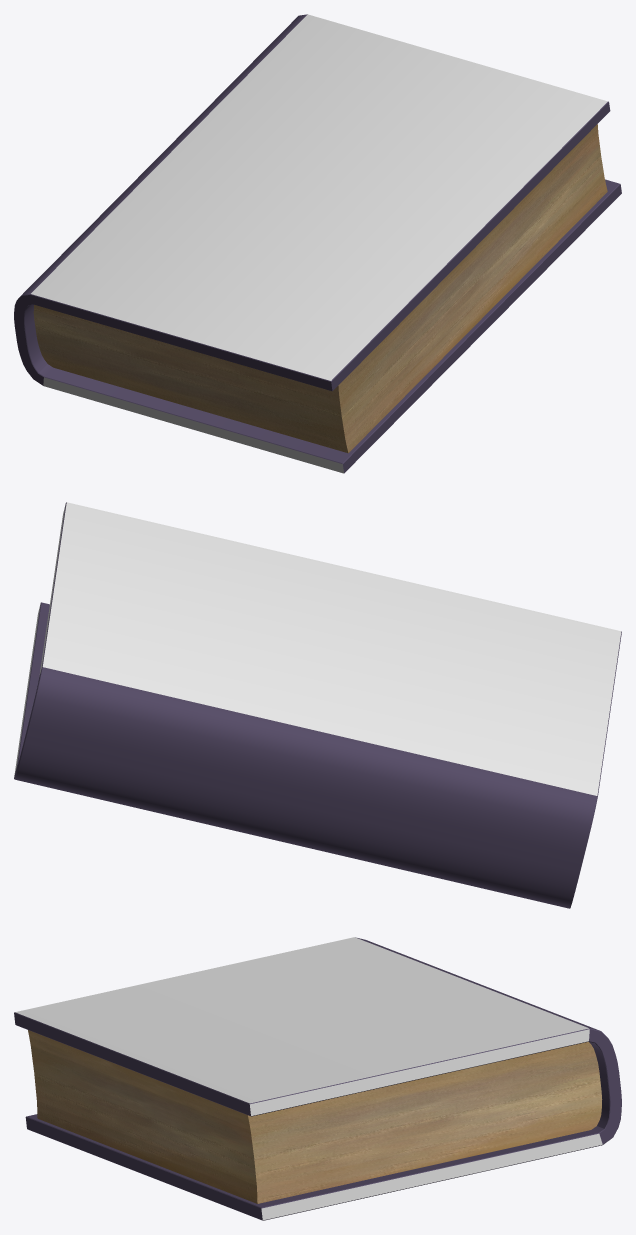
The model's file is InaWeapon-Closed.fbx.
3 views of the same model, one above another, from view 1: azimuth 30°, elevation 25°; view 2: azimuth 150°, elevation 25°; view 3: azimuth 270°, elevation 25° (orthographic). The views are drawn at different scales.
Visible parts, largest first — view 1: Ina; view 2: Ina; view 3: Ina.
Part boxes in pixels (<box>): Ina: <box>14,14,621,473</box>; Ina: <box>14,502,621,908</box>; Ina: <box>14,937,621,1220</box>.
Size of the model in its own units: 481 by 173 by 434.
3 materials, 1 textured.
